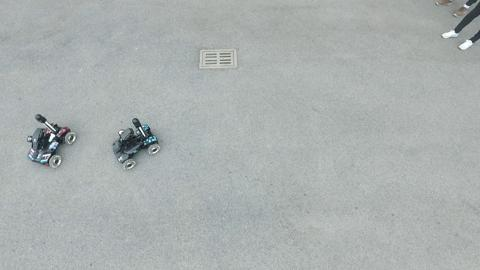chariot: (26, 111, 79, 170), (109, 117, 162, 174)
